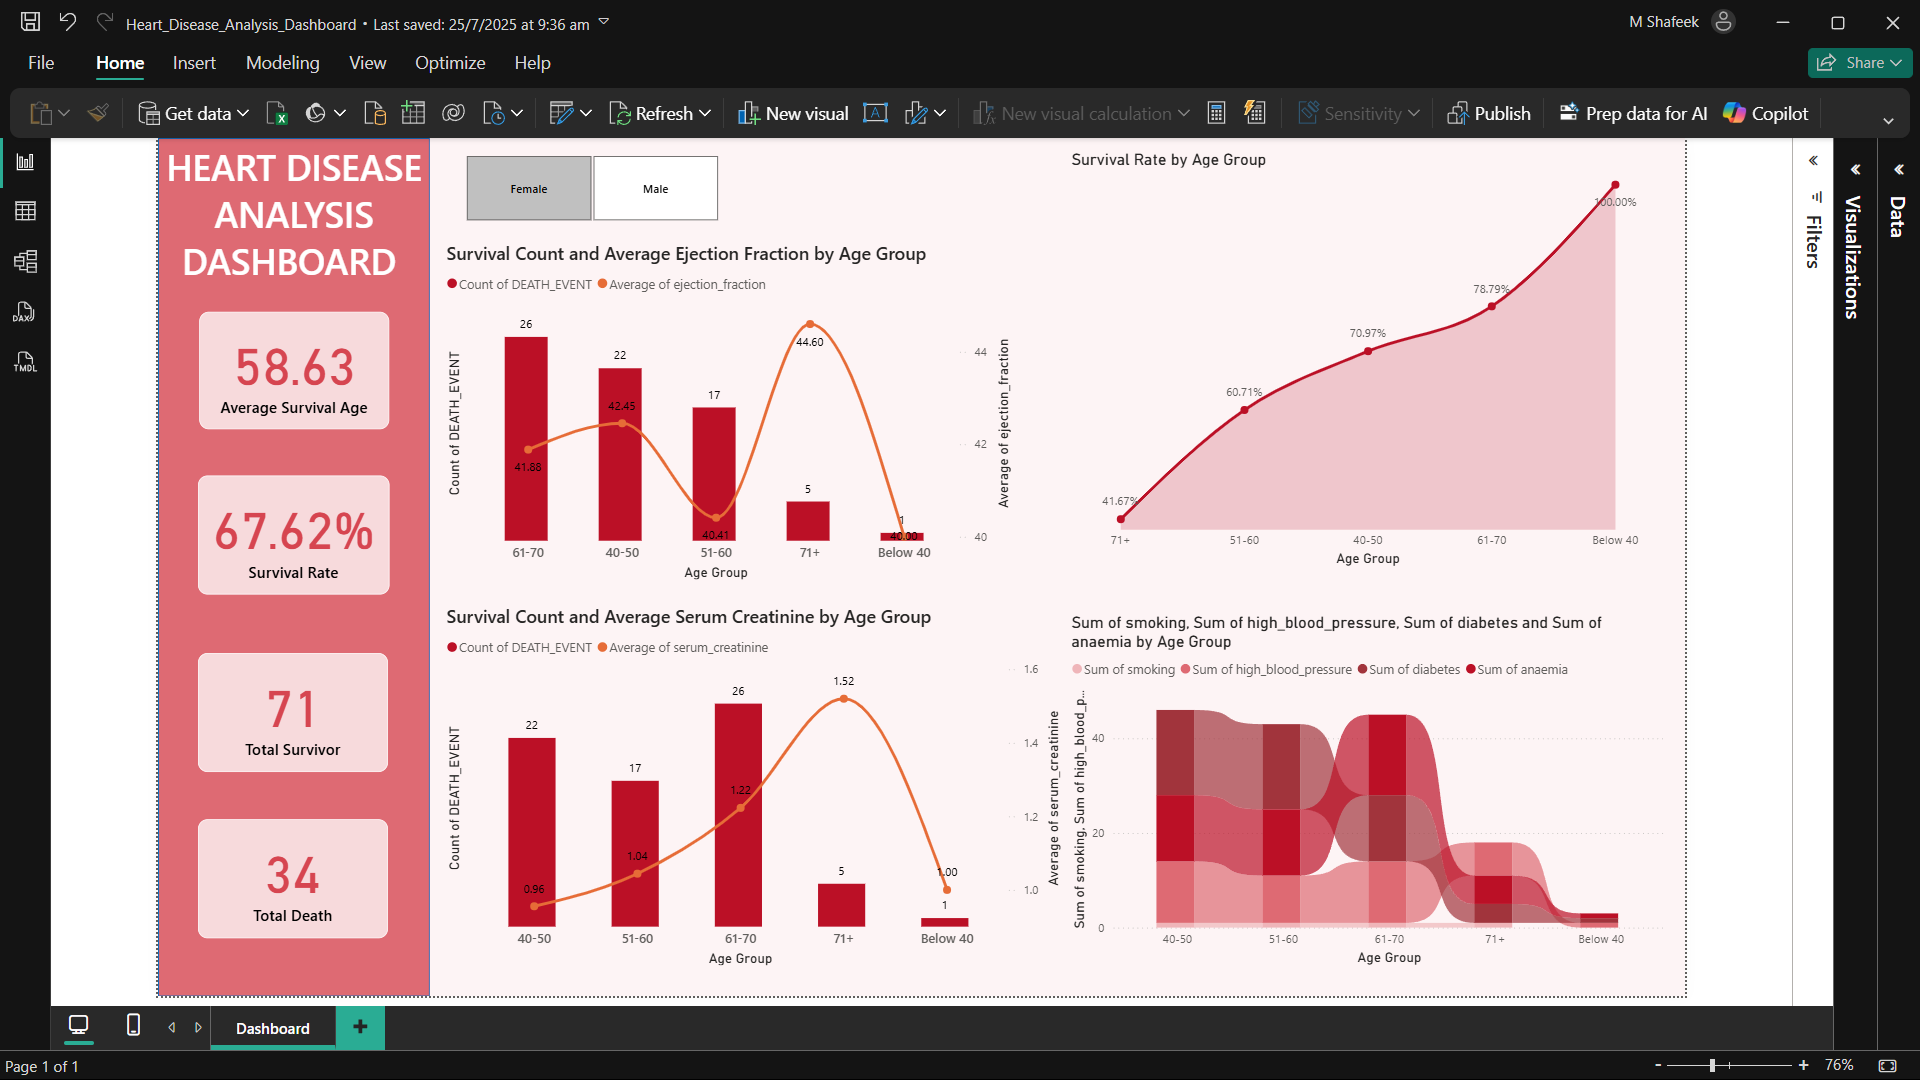

This screenshot's page, from the dashboard's own definition file:
{"tool":"powerbi","page":{"name":"Dashboard","canvas":[1600,900],"ordinal":0},"visuals":[{"type":"lineClusteredColumnComboChart","title":"Survival Count and Average Serum Creatinine by Age Group","fields":{"Category":["heart_Disease_clinical_records_.Age Group"],"Y":["CountNonNull(heart_Disease_clinical_records_.DEATH_EVENT)"],"Y2":["Avg(heart_Disease_clinical_records_.serum_creatinine)"]},"box":[298,488.4,654.1,383.7],"z":0},{"type":"lineChart","fields":{"Category":["heart_Disease_clinical_records_.Age Group"],"Y":["heart_Disease_clinical_records_.Survival Rate"]},"box":[952,11.6,632.3,441.9],"z":1000},{"type":"lineClusteredColumnComboChart","title":"Survival Count and Average Ejection Fraction by Age Group","fields":{"Category":["heart_Disease_clinical_records_.Age Group"],"Y2":["Avg(heart_Disease_clinical_records_.ejection_fraction)"],"Y":["CountNonNull(heart_Disease_clinical_records_.DEATH_EVENT)"]},"box":[298,107.6,601.7,360.5],"z":2000},{"type":"ribbonChart","fields":{"Category":["heart_Disease_clinical_records_.Age Group"],"Y":["Sum(heart_Disease_clinical_records_.smoking)","Sum(heart_Disease_clinical_records_.high_blood_pressure)","Sum(heart_Disease_clinical_records_.diabetes)","Sum(heart_Disease_clinical_records_.anaemia)"]},"box":[952,498.5,632.3,373.5],"z":3000},{"type":"shape","box":[0,0,285,900],"z":4000},{"type":"textbox","box":[0,0,284.9,161.3],"z":5000},{"type":"card","fields":{"Values":["heart_Disease_clinical_records_.Average Survival Age"]},"box":[43.6,181.7,199.1,123.5],"z":6000},{"type":"card","fields":{"Values":["heart_Disease_clinical_records_.Survival Rate"]},"box":[42.2,353.2,200.6,125],"z":7000},{"type":"card","fields":{"Values":["heart_Disease_clinical_records_.Total Survivor"]},"box":[42.2,539.2,199.1,125],"z":8000},{"type":"card","fields":{"Values":["heart_Disease_clinical_records_.Total Death"]},"box":[42.2,713.7,199.1,125],"z":9000},{"type":"slicer","fields":{"Values":["heart_Disease_clinical_records_.Gender"]},"box":[298,11.6,314,81.4],"z":9001},{"type":"textbox","box":[344.5,0,247.1,46.5],"z":9002}]}

Visuals, with their boxes on the page's 1600x900 design canvas (x1, y1, x2, y2). These are canvas units, not pixel positions in the 1920x1080 screenshot, which may show the page scaled, cropped or inside an application window:
"Survival Count and Average Serum Creatinine by Age Group" lineClusteredColumnComboChart: <bbox>298, 488, 952, 872</bbox>
lineChart - heart_Disease_clinical_records_.Age Group x heart_Disease_clinical_records_.Survival Rate: <bbox>952, 12, 1584, 454</bbox>
"Survival Count and Average Ejection Fraction by Age Group" lineClusteredColumnComboChart: <bbox>298, 108, 900, 468</bbox>
ribbonChart - heart_Disease_clinical_records_.Age Group x Sum(heart_Disease_clinical_records_.smoking): <bbox>952, 498, 1584, 872</bbox>
shape: <bbox>0, 0, 285, 900</bbox>
textbox: <bbox>0, 0, 285, 161</bbox>
card - heart_Disease_clinical_records_.Average Survival Age: <bbox>44, 182, 243, 305</bbox>
card - heart_Disease_clinical_records_.Survival Rate: <bbox>42, 353, 243, 478</bbox>
card - heart_Disease_clinical_records_.Total Survivor: <bbox>42, 539, 241, 664</bbox>
card - heart_Disease_clinical_records_.Total Death: <bbox>42, 714, 241, 839</bbox>
slicer - heart_Disease_clinical_records_.Gender: <bbox>298, 12, 612, 93</bbox>
textbox: <bbox>344, 0, 592, 46</bbox>
